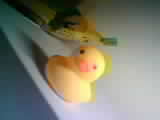duck: (38, 26, 113, 114)
